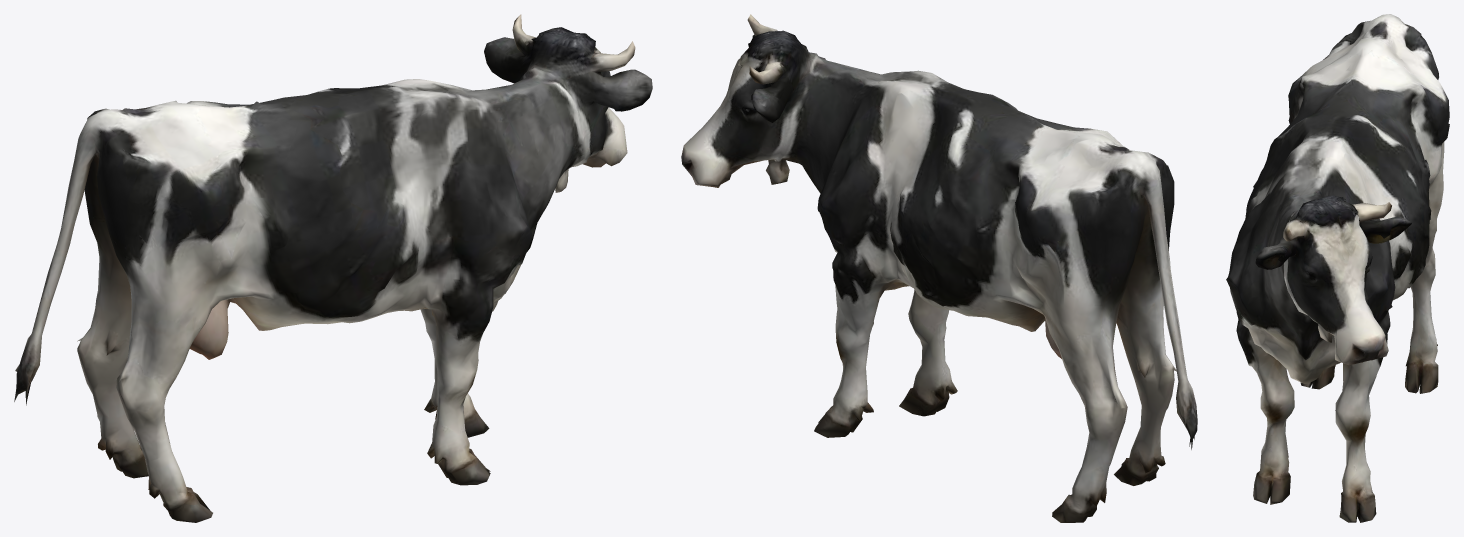
Rendered from kuh.glb.
3 renders of one model, left to right at view 1: azimuth 30°, elevation 25°; view 2: azimuth 150°, elevation 25°; view 3: azimuth 270°, elevation 25°, orthographic. The views are drawn at different scales.
Visible parts, largest first — view 1: tripo_node_55dc5c36-f047-45fa-ad97-1fbdb62863f7; view 2: tripo_node_55dc5c36-f047-45fa-ad97-1fbdb62863f7; view 3: tripo_node_55dc5c36-f047-45fa-ad97-1fbdb62863f7.
Boxes of the visible parts, box(x1,y1,x2,y2) form: tripo_node_55dc5c36-f047-45fa-ad97-1fbdb62863f7: box(14, 14, 652, 522); tripo_node_55dc5c36-f047-45fa-ad97-1fbdb62863f7: box(681, 14, 1197, 522); tripo_node_55dc5c36-f047-45fa-ad97-1fbdb62863f7: box(1226, 14, 1449, 522).
Bounding box in the file's own units: 1 × 0.6483 × 0.3754.
Materials: 1 (1 with a texture image).
